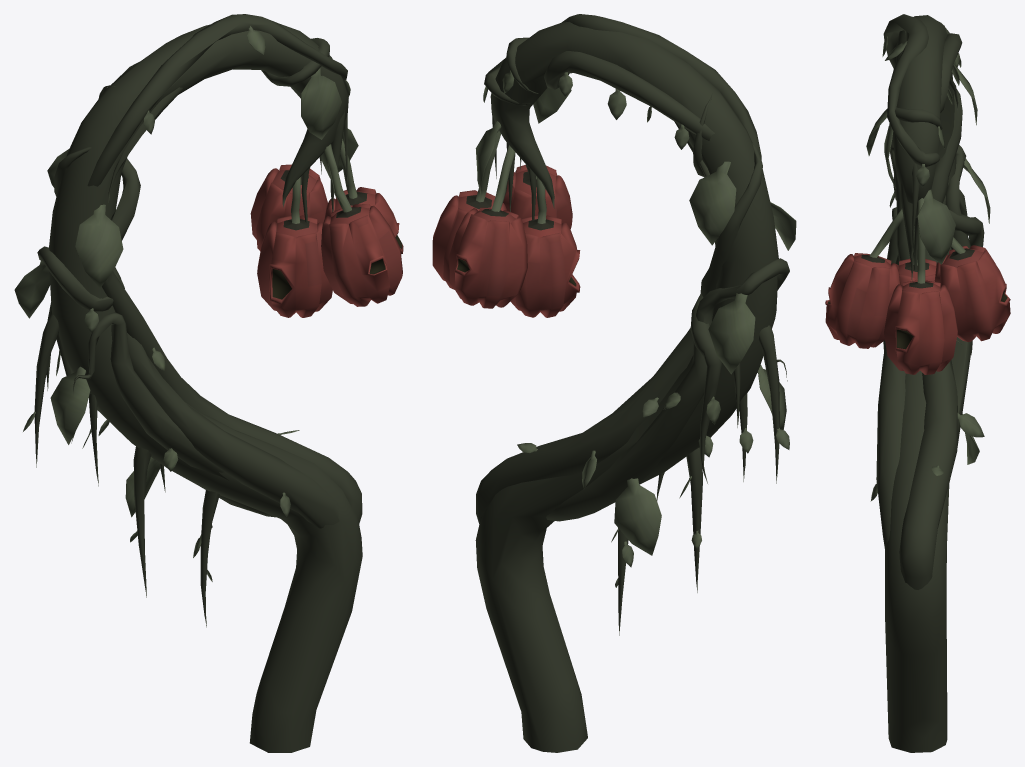
The model's file is pepper Plant.fbx.
3 views of the same model, side by side, from view 1: azimuth 30°, elevation 25°; view 2: azimuth 150°, elevation 25°; view 3: azimuth 270°, elevation 25° (orthographic). The views are drawn at different scales.
Parts seen in each view (by area): view 1: BezierCurve; view 2: BezierCurve; view 3: BezierCurve.
Boxes of the visible parts, box(x1,y1,x2,y2) form: BezierCurve: box(14, 14, 403, 752); BezierCurve: box(432, 14, 796, 752); BezierCurve: box(825, 14, 1010, 752).
Bounding box in the file's own units: 147 × 284 × 69.32.
